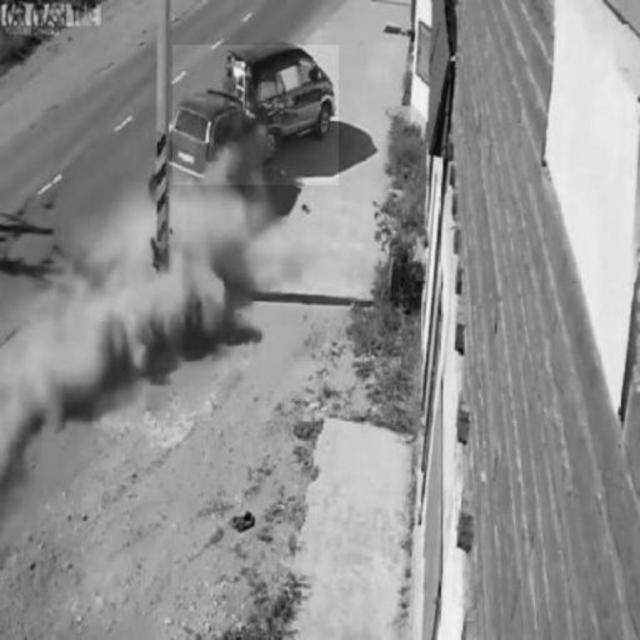accident: (173, 45, 339, 186)
